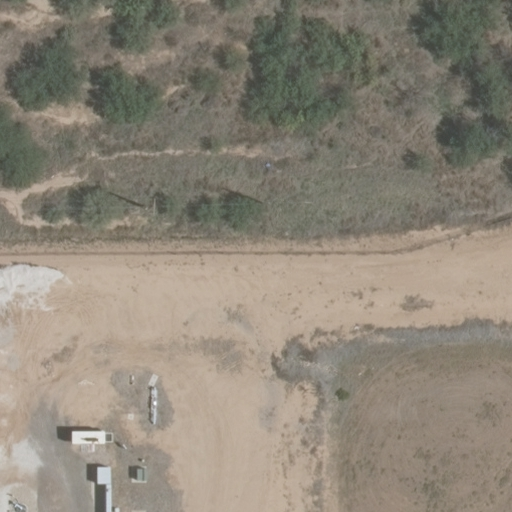DT: (140, 197, 163, 223)
